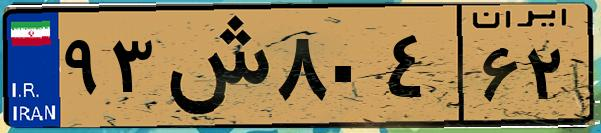0: (330, 28, 385, 110)
2: (525, 38, 570, 115)
3: (110, 28, 158, 98)
4: (385, 28, 445, 110)
6: (475, 38, 525, 113)
8: (270, 28, 330, 110)
9: (57, 26, 110, 100)
ش: (158, 12, 270, 120)
